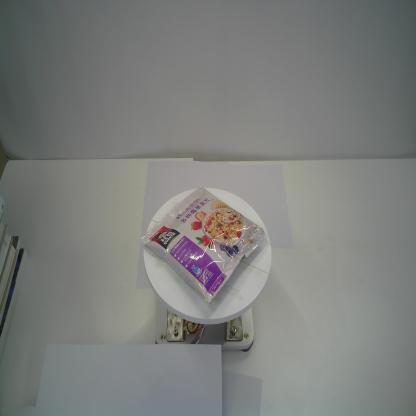Instant Drink: (140, 186, 266, 304)
